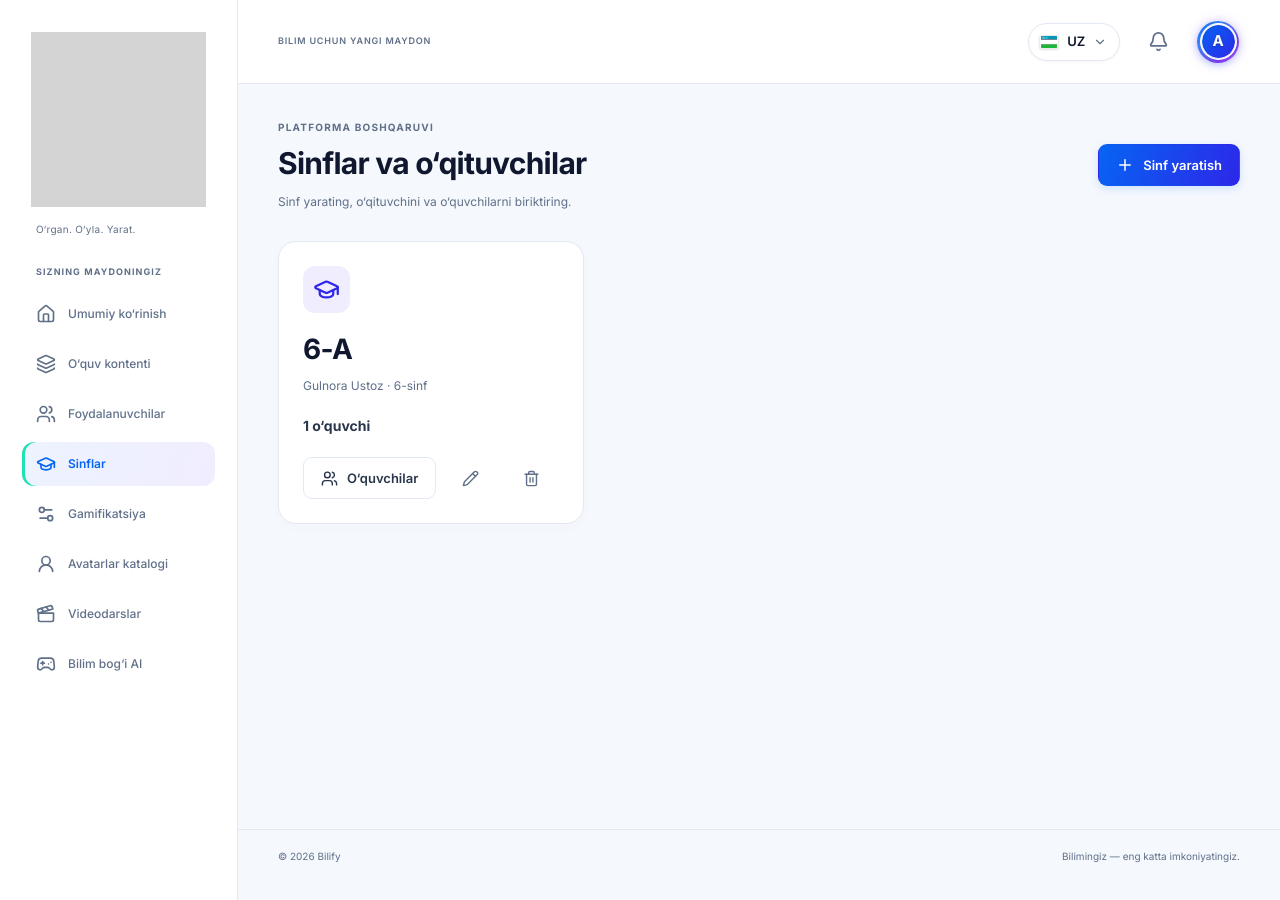
Test: admin pages › confirms and sends a class deletion, then reports a conflict from the API
This screenshot has width=1280, height=900.
Expected: the heading "6-A" is shown, [303, 332, 352, 366]
Click the button named "Sinfni o‘chirish" at point(532, 478), box [505, 457, 558, 499]
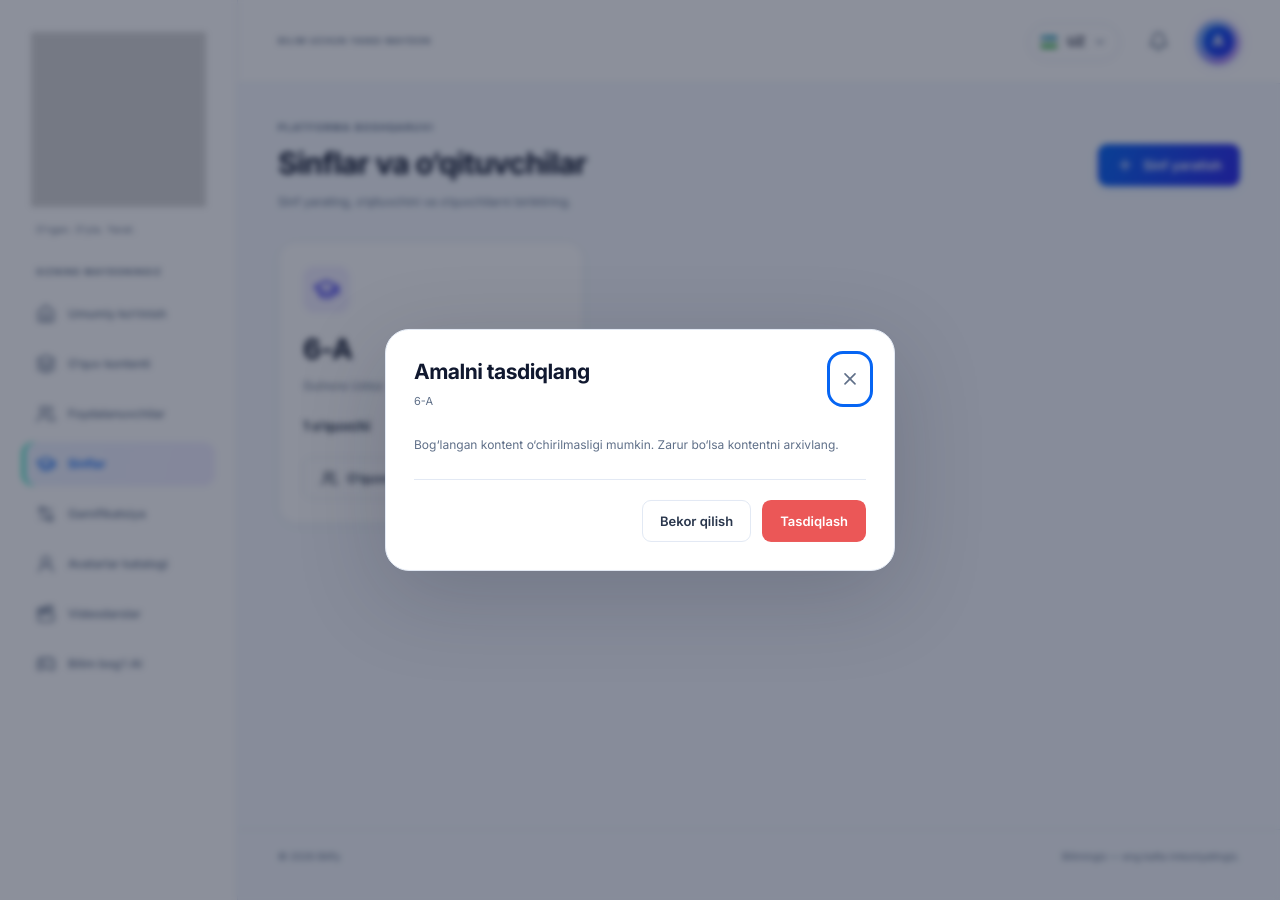
Click the button "Tasdiqlash" at point(814, 521), box [762, 500, 866, 542]
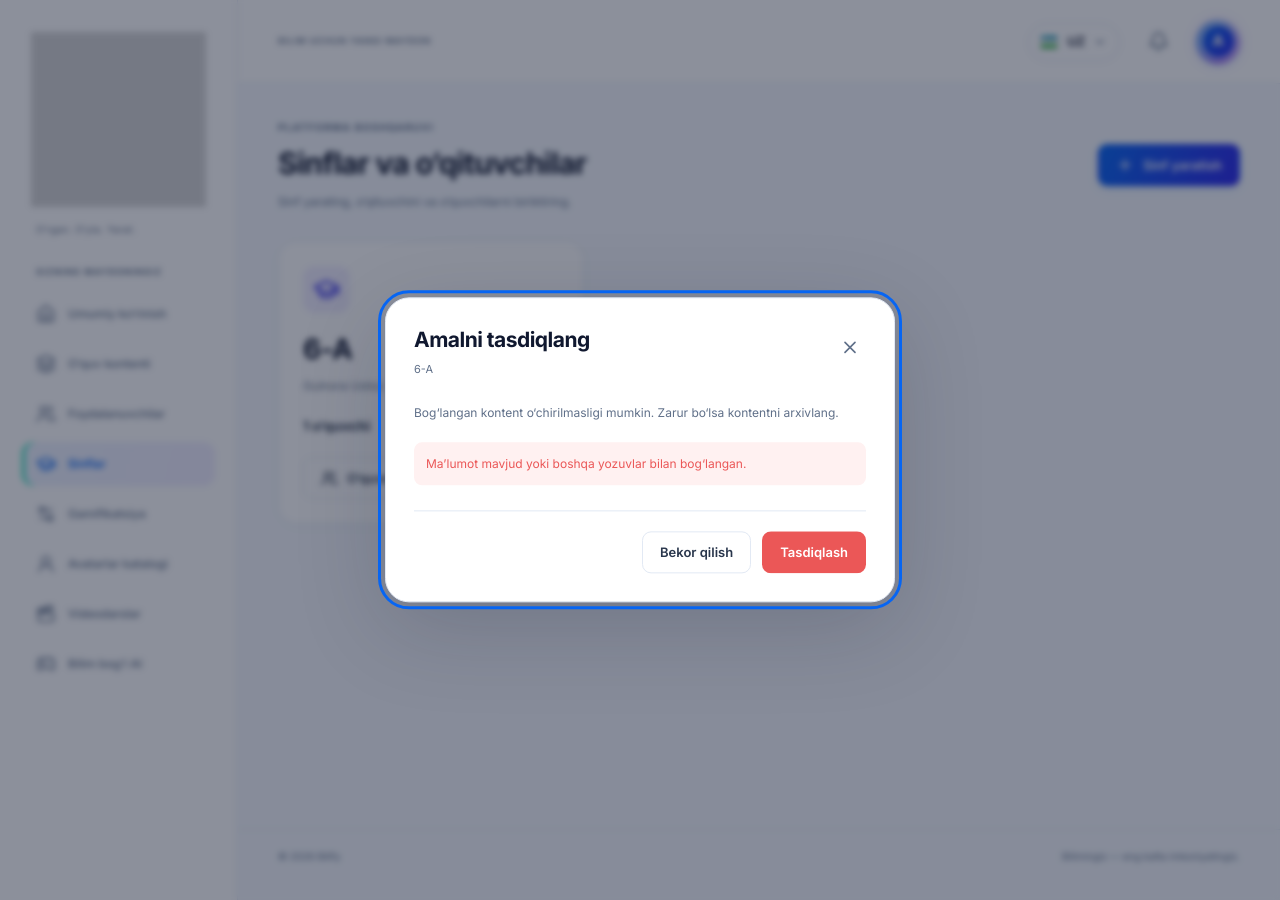
Expected: the message shows "bog‘langan", [426, 456, 746, 471]
